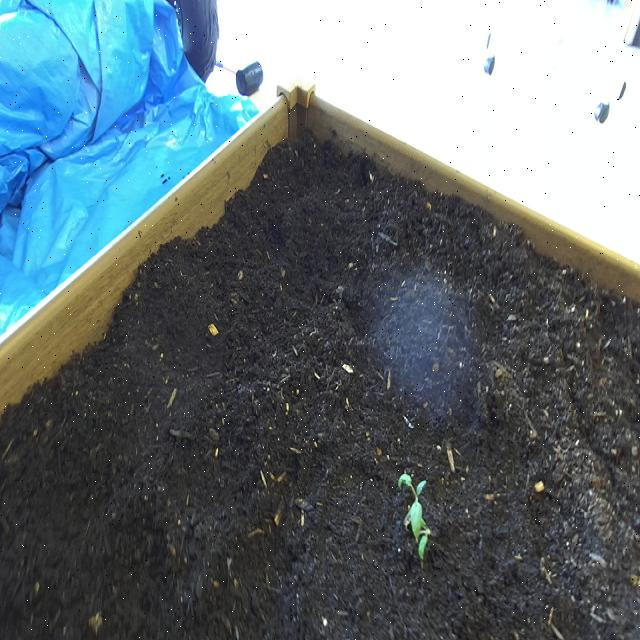Healthy: (394, 467, 436, 566)
